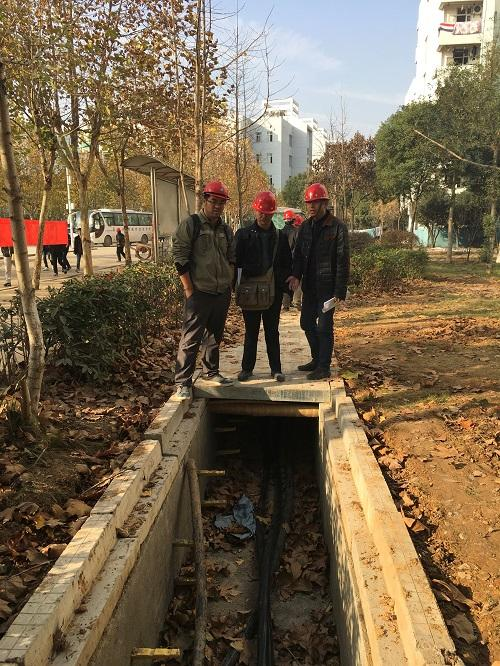helmet: (205, 180, 228, 204), (257, 191, 279, 216), (307, 183, 330, 204), (286, 210, 297, 225)
